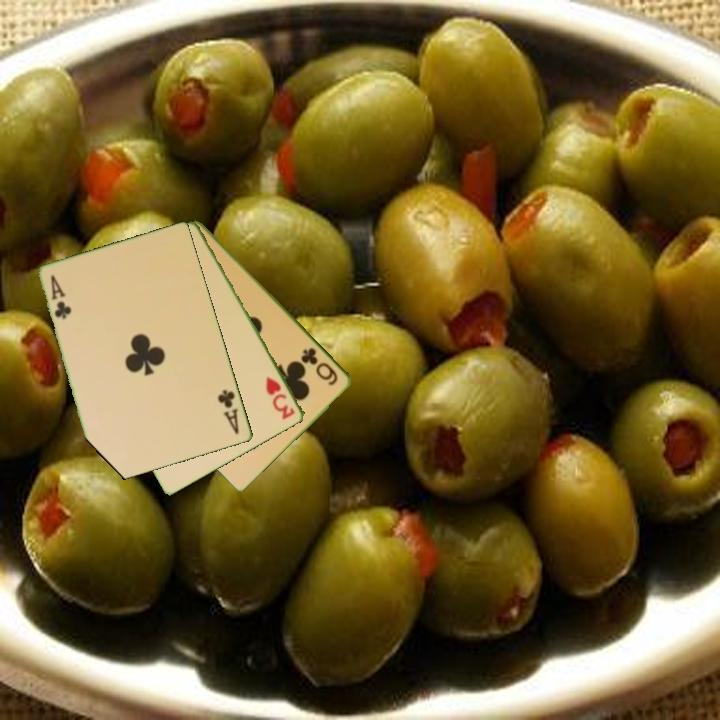3h: (262, 373, 298, 423)
6c: (298, 344, 341, 388)
Ac: (214, 386, 242, 437), (47, 272, 74, 322)
